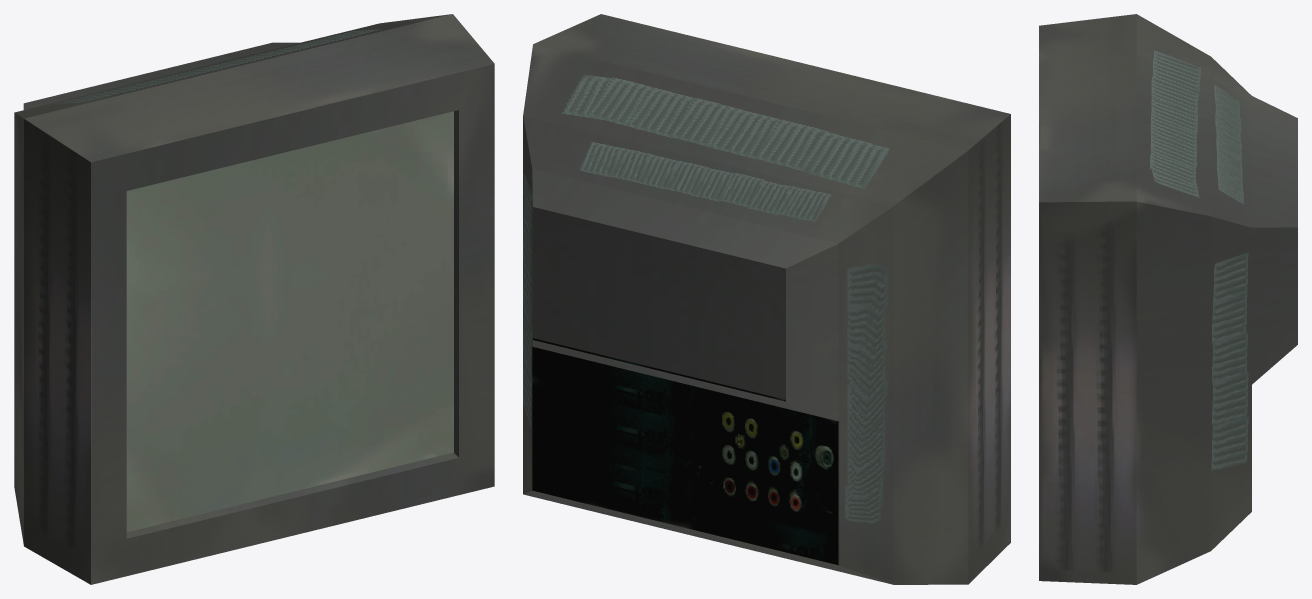
Rendered from CRT_Tv.fbx.
3 views of the same model, side by side, from view 1: azimuth 30°, elevation 25°; view 2: azimuth 150°, elevation 25°; view 3: azimuth 270°, elevation 25° (orthographic). The views are drawn at different scales.
Visible parts, largest first — view 1: Tv; view 2: Tv; view 3: Tv.
Part boxes in pixels (x1,y1,x2,y2): Tv: (14,14,494,584); Tv: (523,14,1010,584); Tv: (1039,14,1297,584).
Bounding box in the file's own units: 212 × 203 × 124.
Materials: 1 (1 with a texture image).
